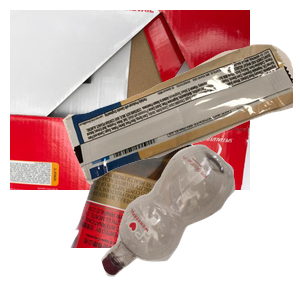cardboard: (10, 10, 250, 190)
glass: (68, 120, 255, 300)
plastic: (99, 142, 300, 300)
trash: (60, 42, 300, 219)
